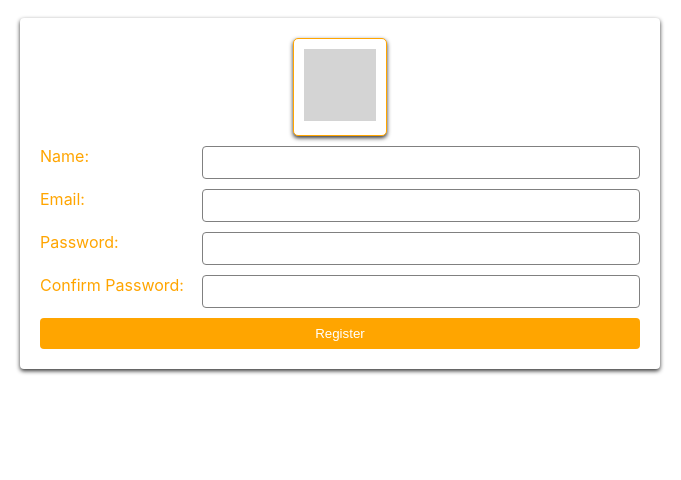
Test case: 3. displays error message for empty name input
This screenshot has width=681, height=480.
Click the button "Register" at (340, 334), box top-left (40, 318), bottom-right (640, 349)
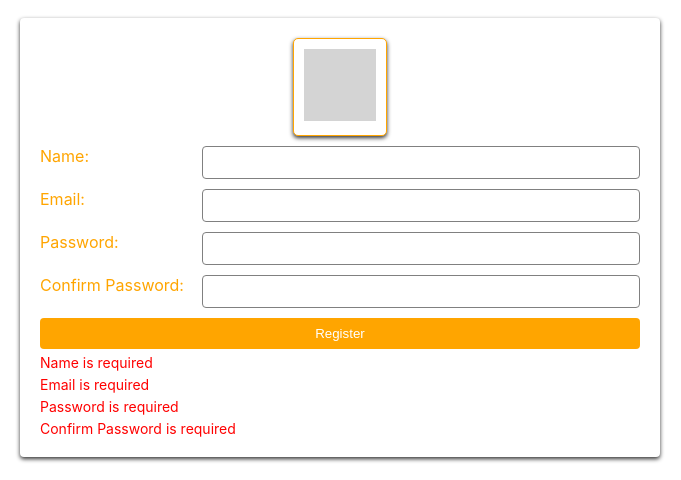
expect the text "Name is required" is shown: met, box top-left (40, 354), bottom-right (153, 371)
